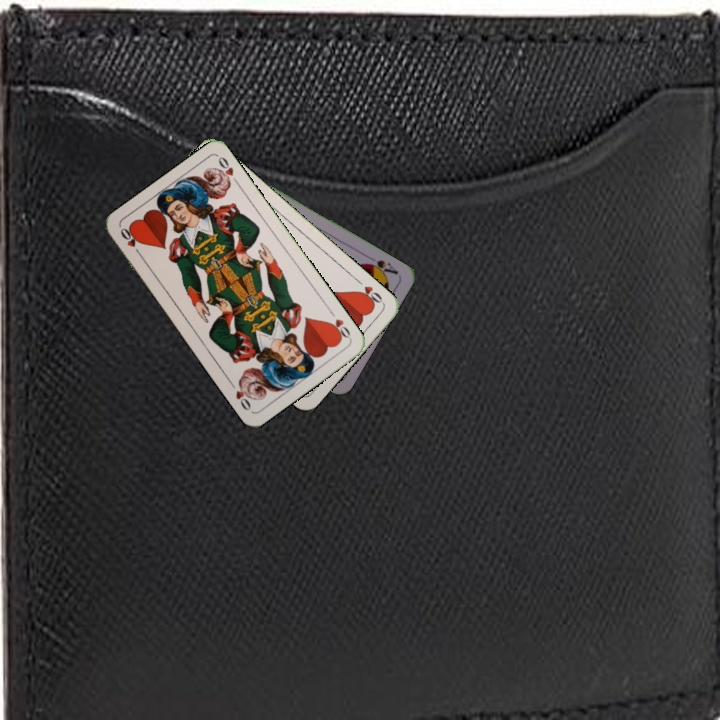HO: (352, 275, 386, 308), (116, 223, 145, 259), (325, 306, 353, 342)
SA: (361, 256, 401, 279)
